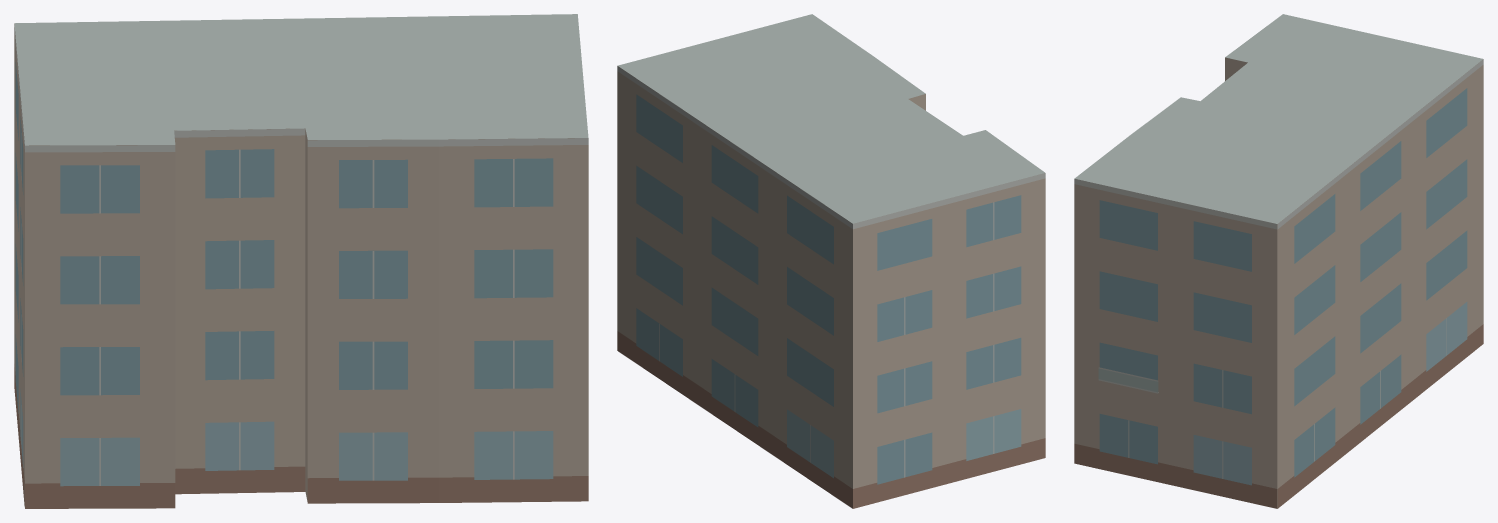
The model's file is survey-upis-32581411.glb.
3 views of the same model, side by side, from view 1: azimuth 30°, elevation 25°; view 2: azimuth 150°, elevation 25°; view 3: azimuth 270°, elevation 25° (orthographic). The views are drawn at different scales.
Parts seen in each view (by area): view 1: survey-upis-32581411.tmp; view 2: survey-upis-32581411.tmp; view 3: survey-upis-32581411.tmp.
Part boxes in pixels (x1=…): survey-upis-32581411.tmp: x1=14, y1=14, x2=588, y2=508; survey-upis-32581411.tmp: x1=617, y1=14, x2=1045, y2=508; survey-upis-32581411.tmp: x1=1074, y1=14, x2=1483, y2=508.
Bounding box in the file's own units: 20.1 × 12.7 × 16.55.
